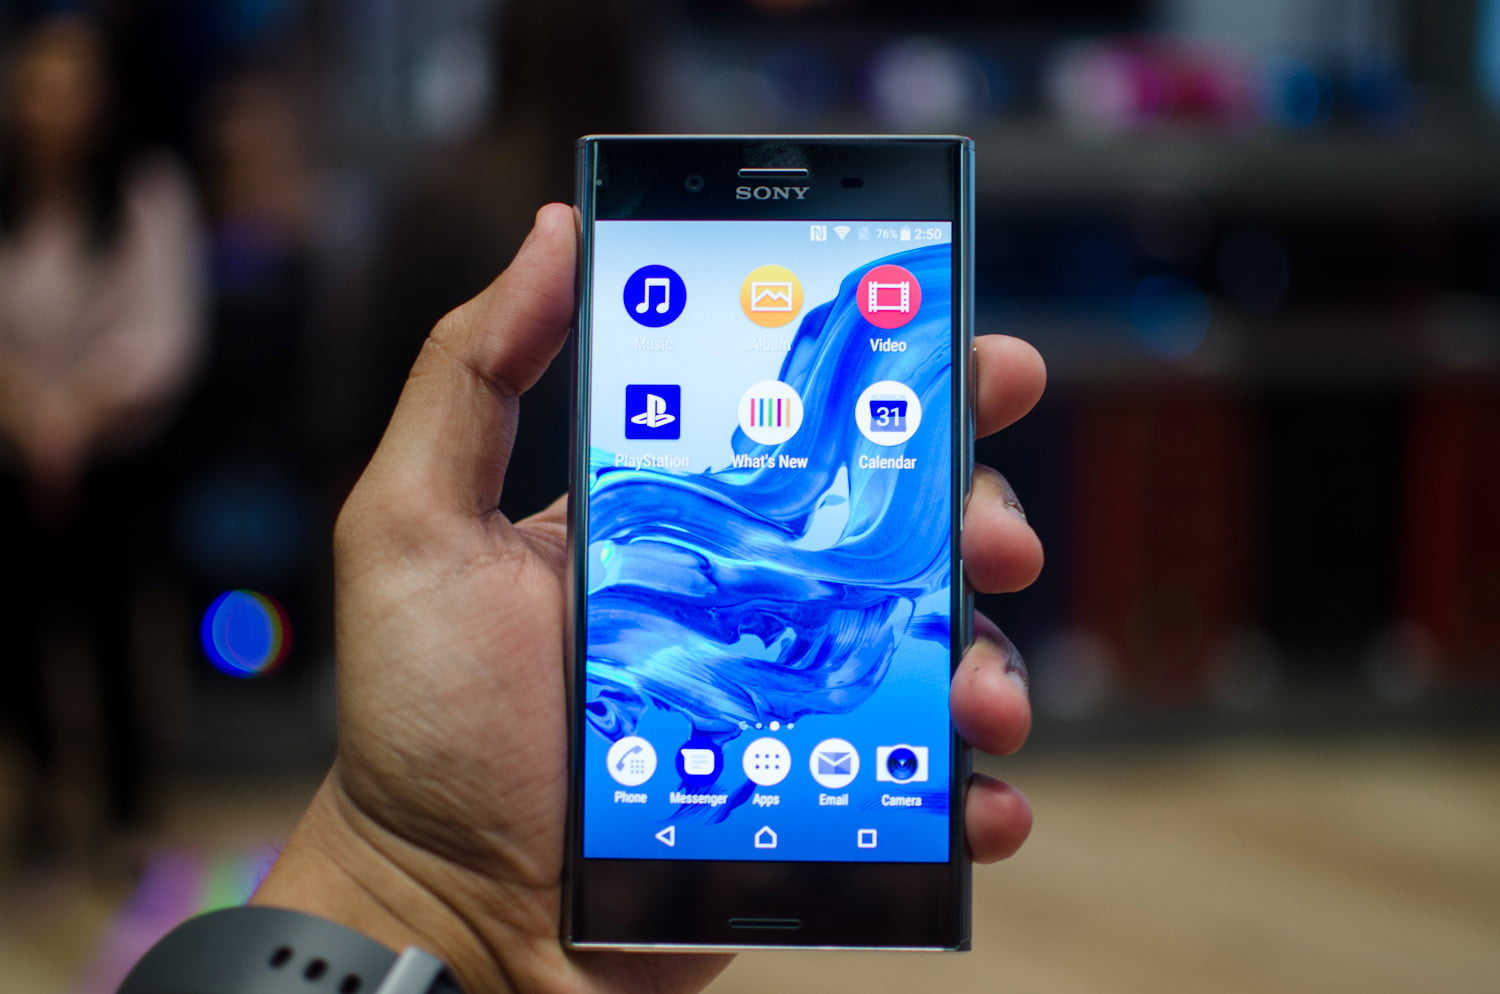smartphone: (559, 134, 976, 954)
